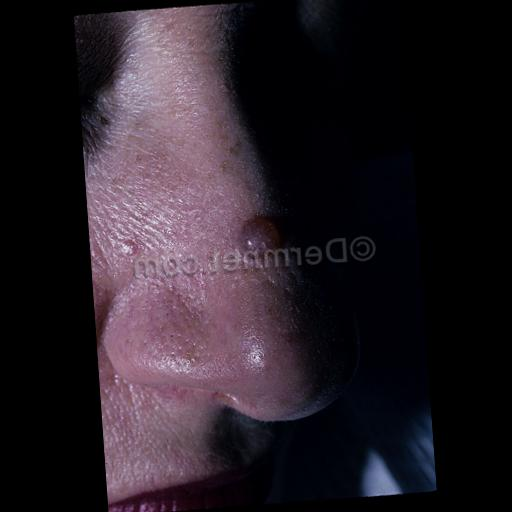Skin_Lesion: (221, 219, 309, 260), (102, 234, 148, 276)
